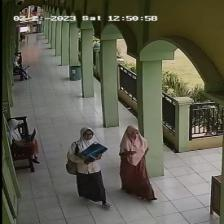HijabSyar-i: (68, 127, 110, 167), (118, 124, 153, 165)
